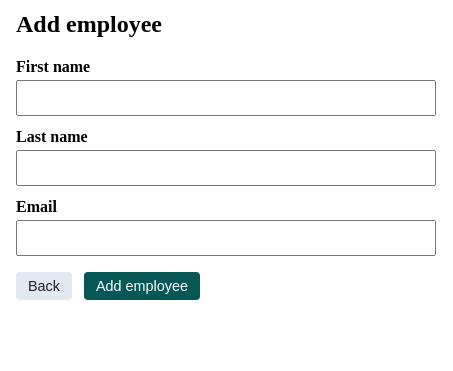
Test: EmployeeForm › shows validation errors and does not submit when empty
This screenshot has width=453, height=371.
Click the button "Add employee" at (142, 286), box [84, 272, 200, 300]
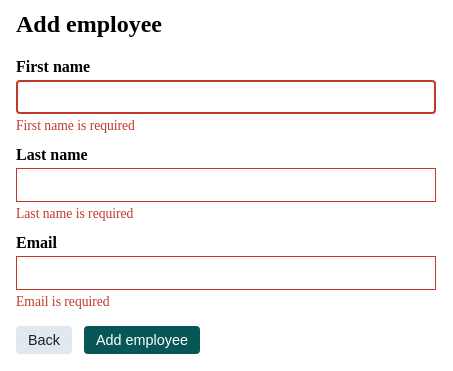
Now the text "First name is required" is shown, box [16, 118, 135, 133]
Now the text "Last name is required" is shown, box [16, 206, 133, 221]
Now the text "Email is required" is shown, box [16, 294, 110, 309]
